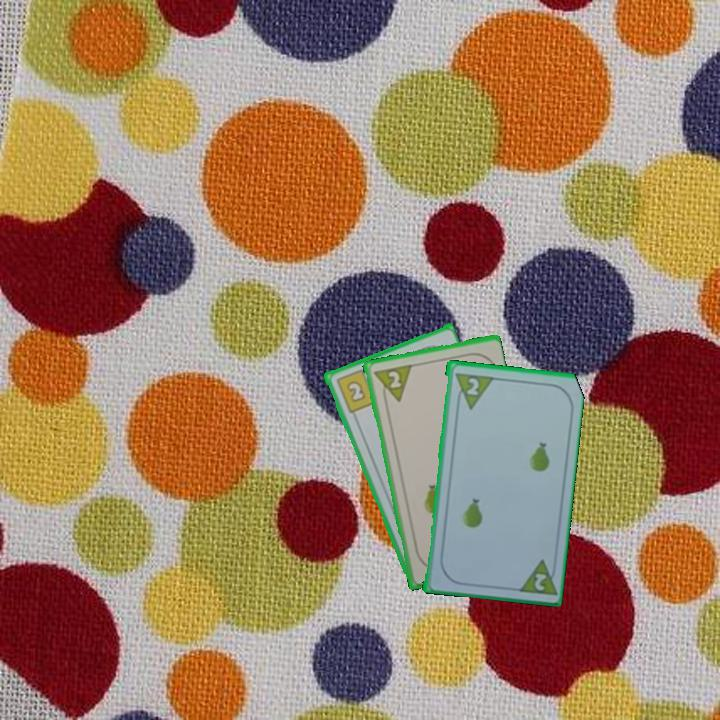2b: (332, 365, 378, 415)
2p: (369, 360, 413, 407), (451, 369, 494, 411), (530, 569, 549, 593)
